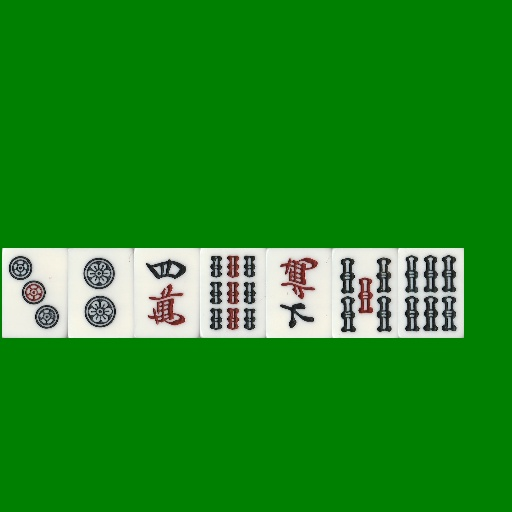2p: (68, 248, 134, 338)
3p: (2, 248, 68, 338)
4m: (134, 248, 200, 338)
5s: (332, 248, 398, 338)
6s: (398, 248, 464, 338)
7m: (266, 248, 332, 338)
9s: (200, 248, 266, 338)
